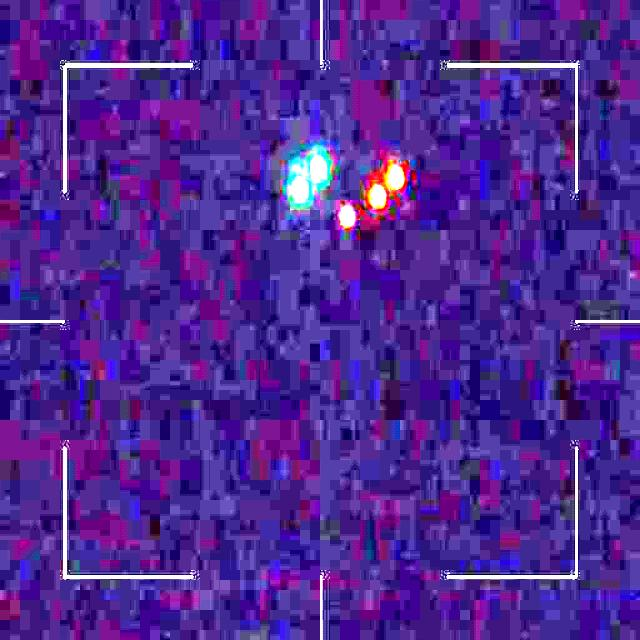bird: (290, 150, 406, 228)
